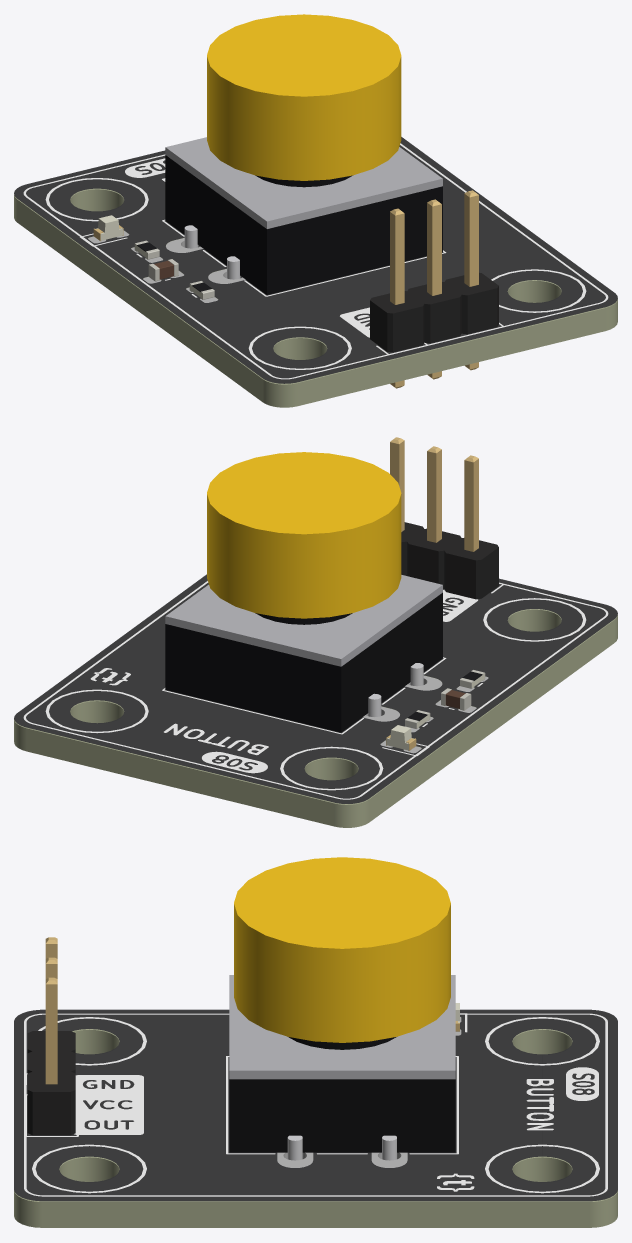
The picture shows the model from 3 angles, top to bottom: view 1: azimuth 30°, elevation 25°; view 2: azimuth 150°, elevation 25°; view 3: azimuth 270°, elevation 25°; orthographic projection. The views are drawn at different scales.
Visible parts, largest first — view 1: =>[0:1:1:10], SW_Push_12mm_Cap_3, =>[0:1:1:12], SW_Push_12mm_Cap_0, J1, SW_Push_12mm_Cap_1, =>[0:1:1:8], =>[0:1:1:7], SW_Push_12mm_Cap_4, D1; view 2: =>[0:1:1:10], SW_Push_12mm_Cap_3, SW_Push_12mm_Cap_0, =>[0:1:1:12], SW_Push_12mm_Cap_1, J1, =>[0:1:1:8], =>[0:1:1:7], SW_Push_12mm_Cap_4, D1; view 3: =>[0:1:1:10], SW_Push_12mm_Cap_3, =>[0:1:1:12], SW_Push_12mm_Cap_0, =>[0:1:1:8], SW_Push_12mm_Cap_1, J1, =>[0:1:1:7], SW_Push_12mm_Cap_4, SW_Push_12mm_Cap_2.
Part boxes in pixels (x1,y1,x2,y2): =>[0:1:1:10]: [14, 137, 617, 383]; SW_Push_12mm_Cap_3: [207, 14, 401, 180]; =>[0:1:1:12]: [14, 188, 617, 407]; SW_Push_12mm_Cap_0: [165, 155, 442, 294]; J1: [370, 190, 498, 388]; SW_Push_12mm_Cap_1: [165, 137, 442, 228]; =>[0:1:1:8]: [23, 143, 608, 379]; =>[0:1:1:7]: [88, 231, 245, 302]; SW_Push_12mm_Cap_4: [184, 225, 240, 279]; D1: [93, 215, 123, 241]; =>[0:1:1:10]: [14, 574, 617, 803]; SW_Push_12mm_Cap_3: [207, 452, 401, 618]; SW_Push_12mm_Cap_0: [165, 592, 442, 732]; =>[0:1:1:12]: [14, 609, 617, 827]; SW_Push_12mm_Cap_1: [165, 575, 442, 666]; J1: [390, 437, 498, 599]; =>[0:1:1:8]: [23, 581, 608, 799]; =>[0:1:1:7]: [362, 675, 488, 753]; SW_Push_12mm_Cap_4: [367, 663, 423, 716]; D1: [386, 725, 416, 750]; =>[0:1:1:10]: [14, 1009, 617, 1201]; SW_Push_12mm_Cap_3: [234, 857, 450, 1042]; =>[0:1:1:12]: [14, 1016, 617, 1227]; SW_Push_12mm_Cap_0: [229, 1079, 455, 1152]; =>[0:1:1:8]: [24, 1013, 607, 1196]; SW_Push_12mm_Cap_1: [229, 975, 455, 1079]; J1: [27, 937, 75, 1135]; =>[0:1:1:7]: [277, 1017, 461, 1167]; SW_Push_12mm_Cap_4: [287, 1135, 396, 1160]; SW_Push_12mm_Cap_2: [288, 1037, 396, 1049].
Bounding box in the file's own units: 0.024 × 0.0153 × 0.032.
